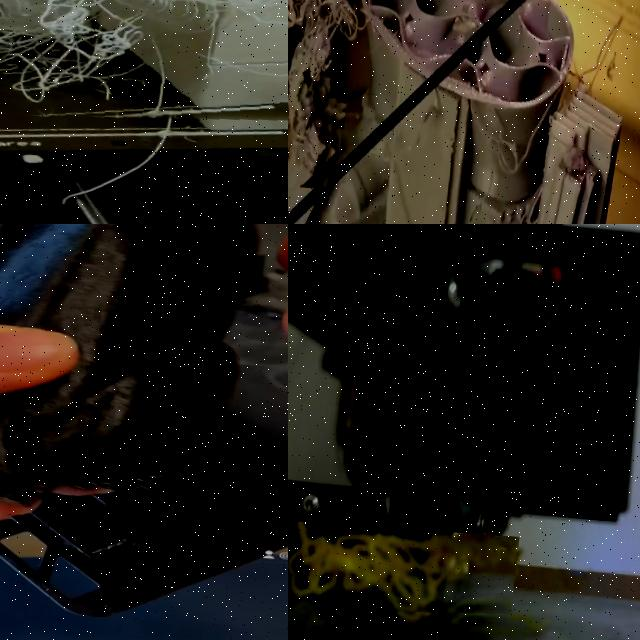spaghetti: (0, 0, 288, 155), (288, 521, 519, 614), (417, 54, 540, 224), (288, 0, 356, 192)
